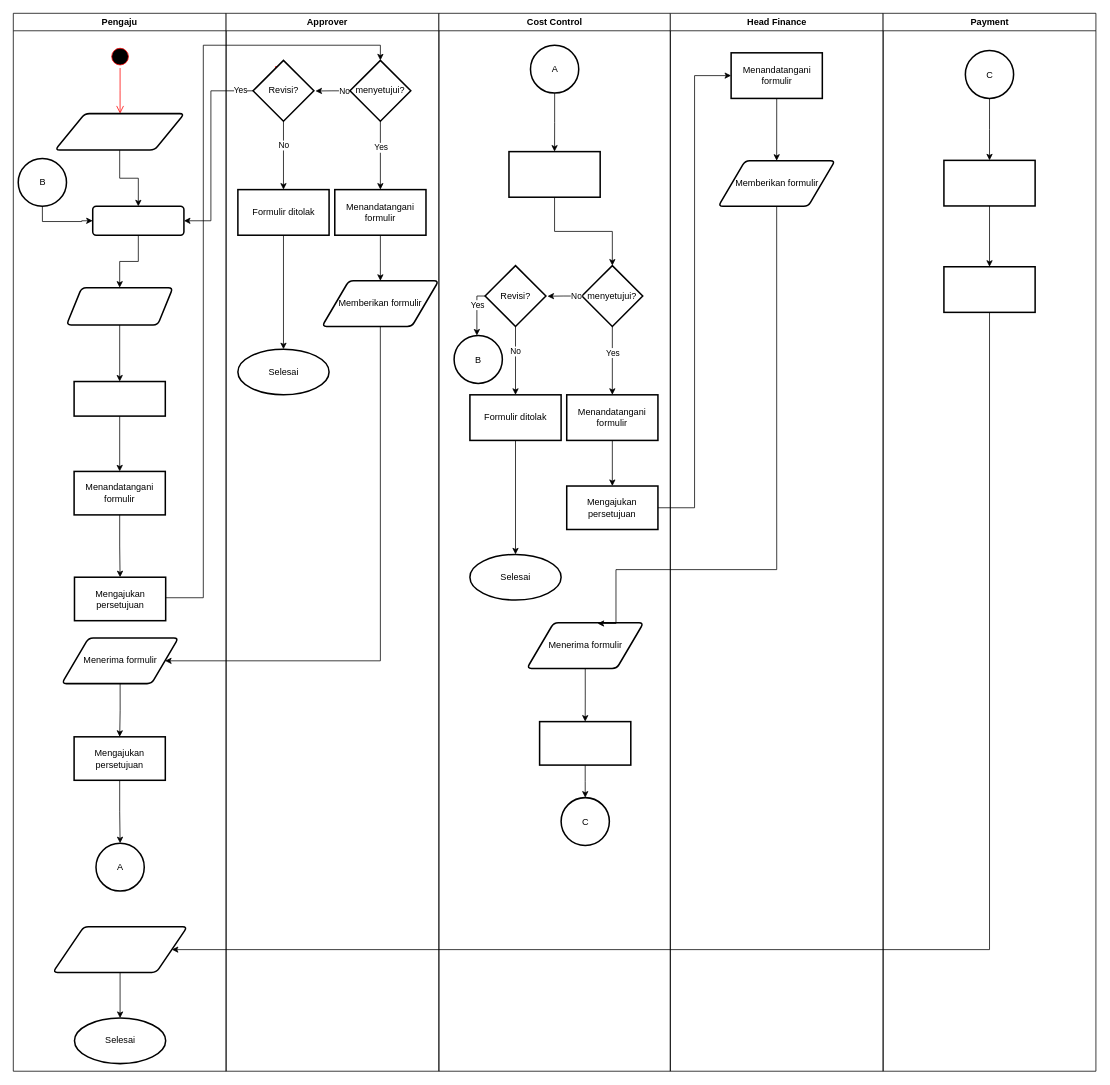
Image size: 1110x1085. Some labels were removed from this diagram. Here are the shapes that lost their labels. From the top down, the centre of each, then its label:
At (119,131): "Mengunduh Formulir".
At (554,174): "Pengecekan form, bukti, budget".
At (989,182): "Memproses pembayaran".
At (138,220): "edit formulir".
At (119,306): "Unggah formulir dan bukti transaksi".
At (989,289): "Mengirim pemberitahuan".
At (119,398): "Mencetak formulir".
At (584,742): "Mengajukan pembayaran".
At (120,949): "Menerima pembayaran".
